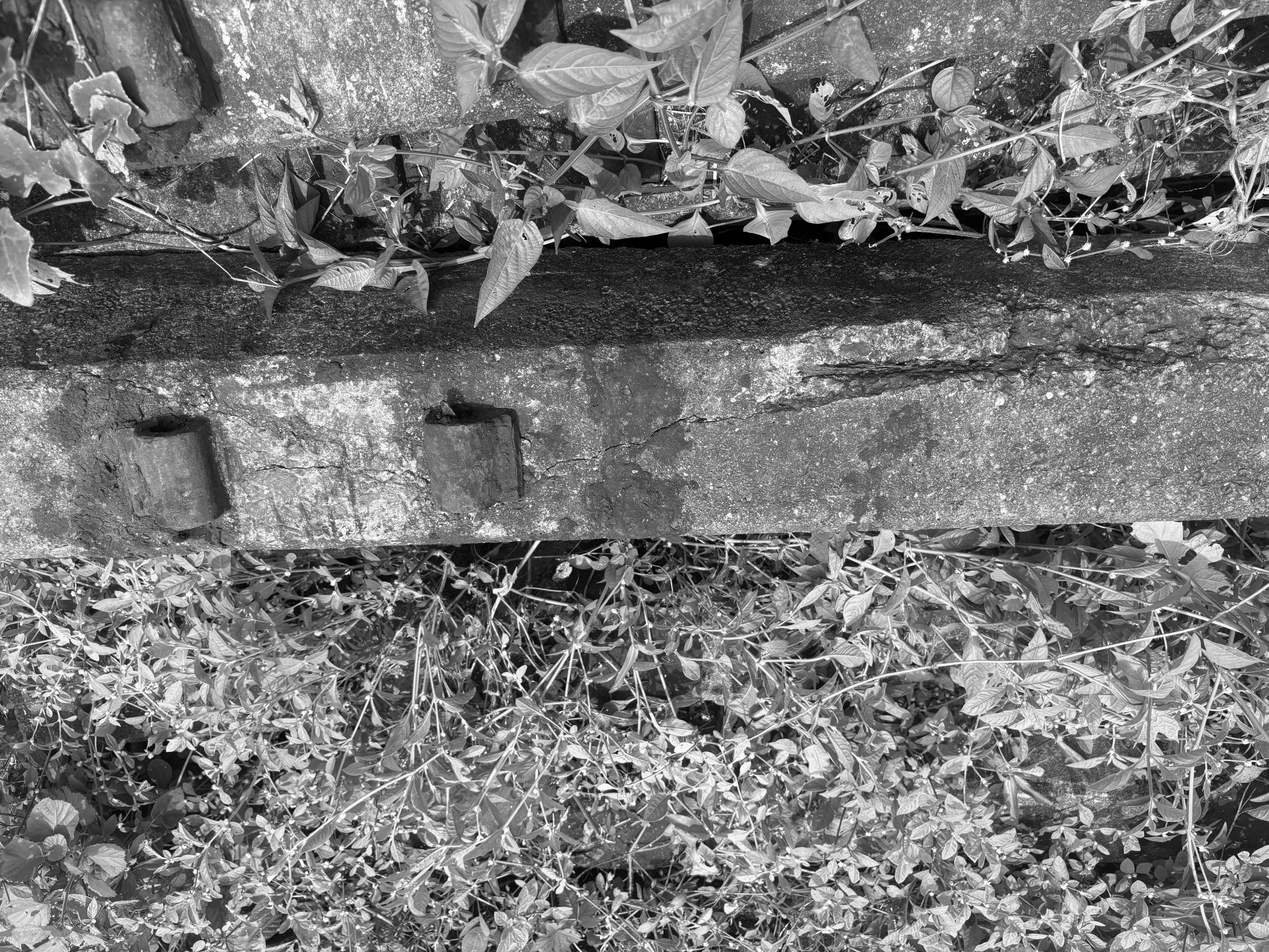cracks in midportion: (539, 302, 1226, 526)
cracks under rail seat: (224, 438, 415, 513)
